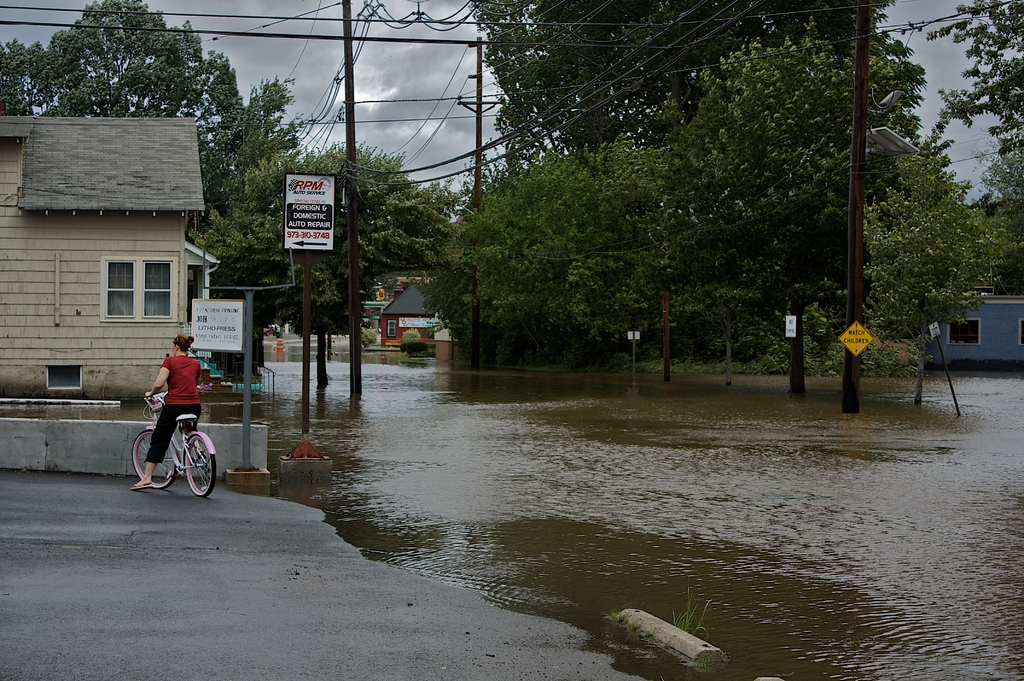Person: (130, 333, 201, 489)
